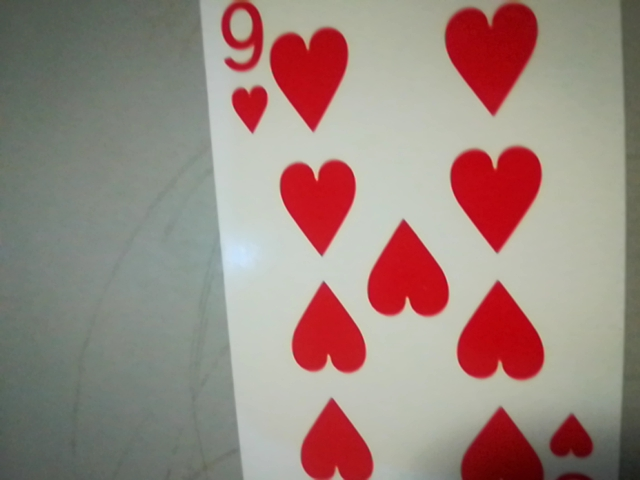hx 9: (209, 0, 274, 139)
